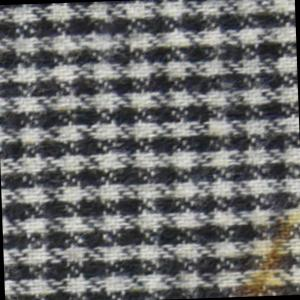Oil Stain: (229, 208, 300, 298)
